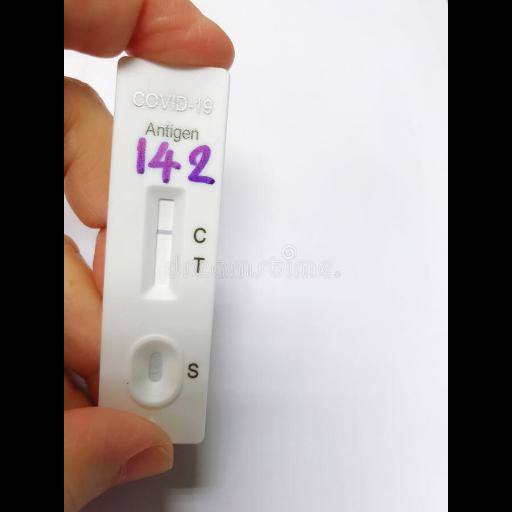Neg: (99, 56, 231, 444)
